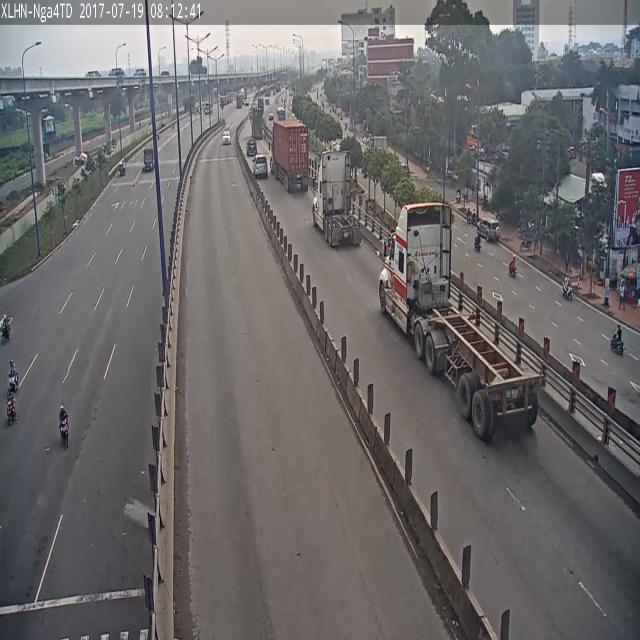car: (610, 325, 624, 356), (58, 404, 68, 447), (6, 390, 16, 426), (8, 359, 18, 391), (0, 316, 11, 343), (562, 276, 573, 300), (508, 257, 516, 276)
traffic-light: (253, 155, 268, 178), (144, 148, 154, 171), (222, 130, 231, 145)
truck: (376, 196, 546, 449), (312, 151, 360, 246), (271, 120, 308, 191)
